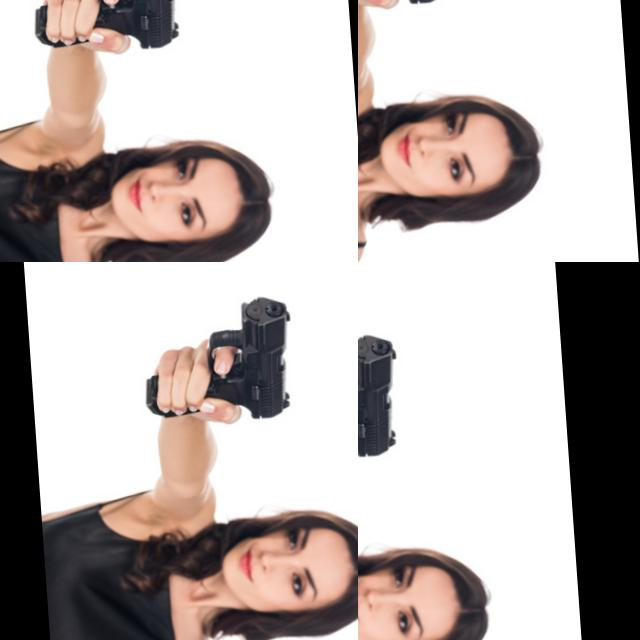handgun: (61, 262, 358, 640), (0, 0, 297, 262), (358, 329, 409, 463)
